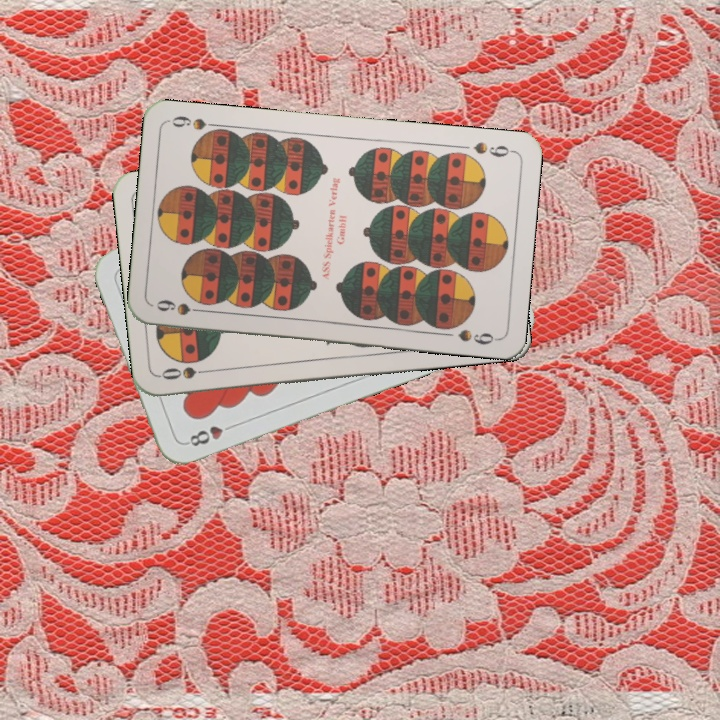H8: (182, 419, 239, 449)
S9: (153, 295, 211, 318), (469, 138, 516, 160)
SO: (157, 362, 216, 383)
